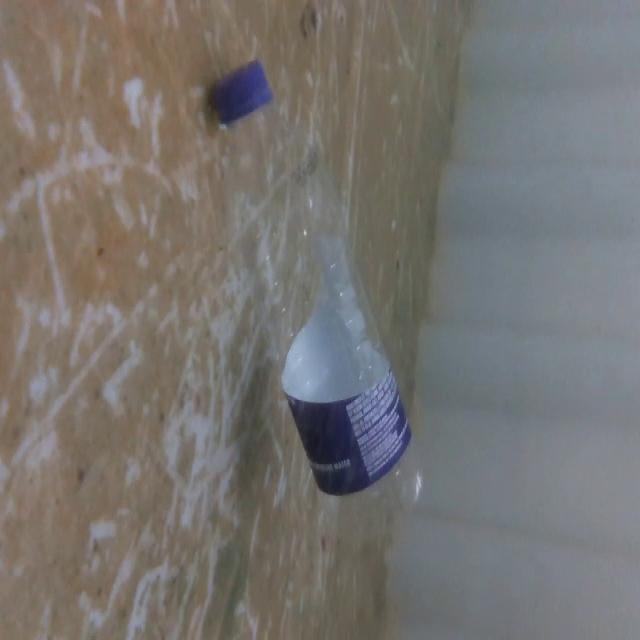plastic bottle: (202, 54, 432, 525)
